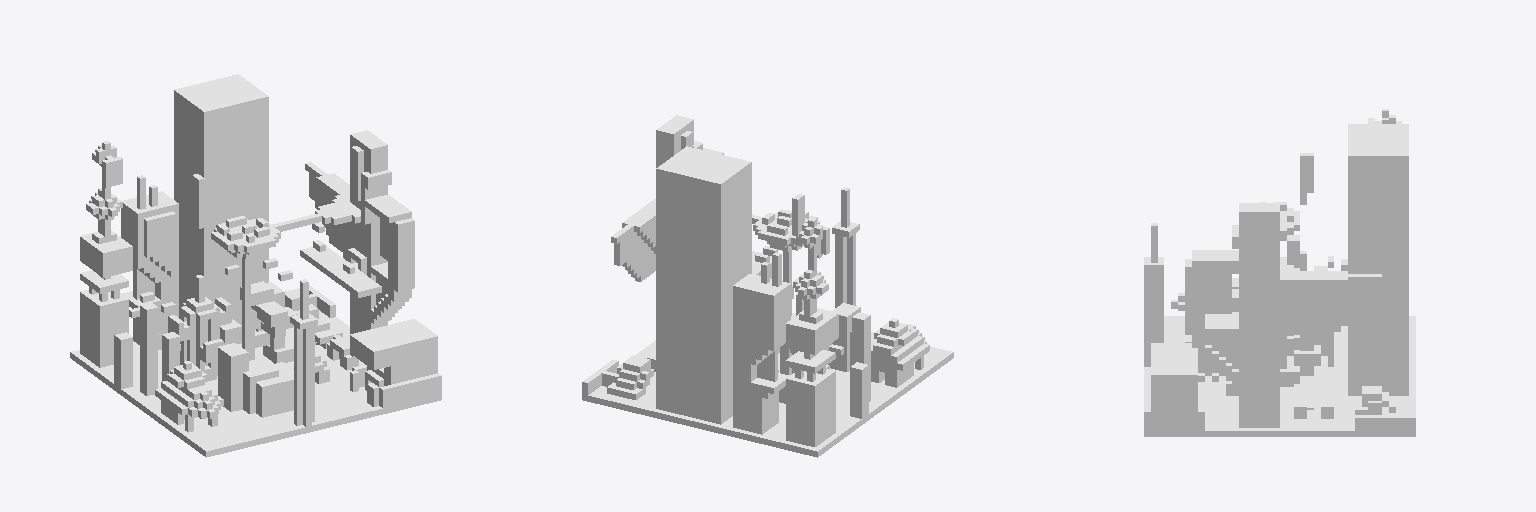
Rendered from outruncity.obj.
3 renders of one model, left to right at view 1: azimuth 30°, elevation 25°; view 2: azimuth 150°, elevation 25°; view 3: azimuth 270°, elevation 25°, orthographic.
Visible parts, largest first — view 1: object 1; view 2: object 1; view 3: object 1.
Part boxes in pixels (x1,y1,x2,y2): object 1: (70, 74, 441, 457); object 1: (582, 115, 953, 457); object 1: (1144, 109, 1415, 436).
Bounding box in the file's own units: 4 × 4 × 4.